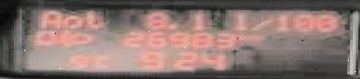-: (166, 21, 174, 30)
0: (312, 11, 336, 32), (290, 11, 312, 32), (30, 29, 54, 45)
1: (184, 8, 206, 31), (271, 11, 287, 32)
2: (168, 50, 195, 70), (116, 30, 141, 47)
3: (211, 31, 233, 48)
4: (198, 51, 225, 70)
6: (141, 30, 162, 47)
8: (141, 9, 165, 29), (190, 31, 211, 48)
9: (133, 50, 163, 70), (165, 31, 187, 47), (62, 52, 84, 68)
X: (33, 9, 60, 29), (81, 9, 103, 30), (225, 10, 244, 31), (244, 16, 271, 30), (60, 12, 81, 28), (89, 53, 111, 68), (244, 31, 260, 41), (233, 30, 244, 40)
